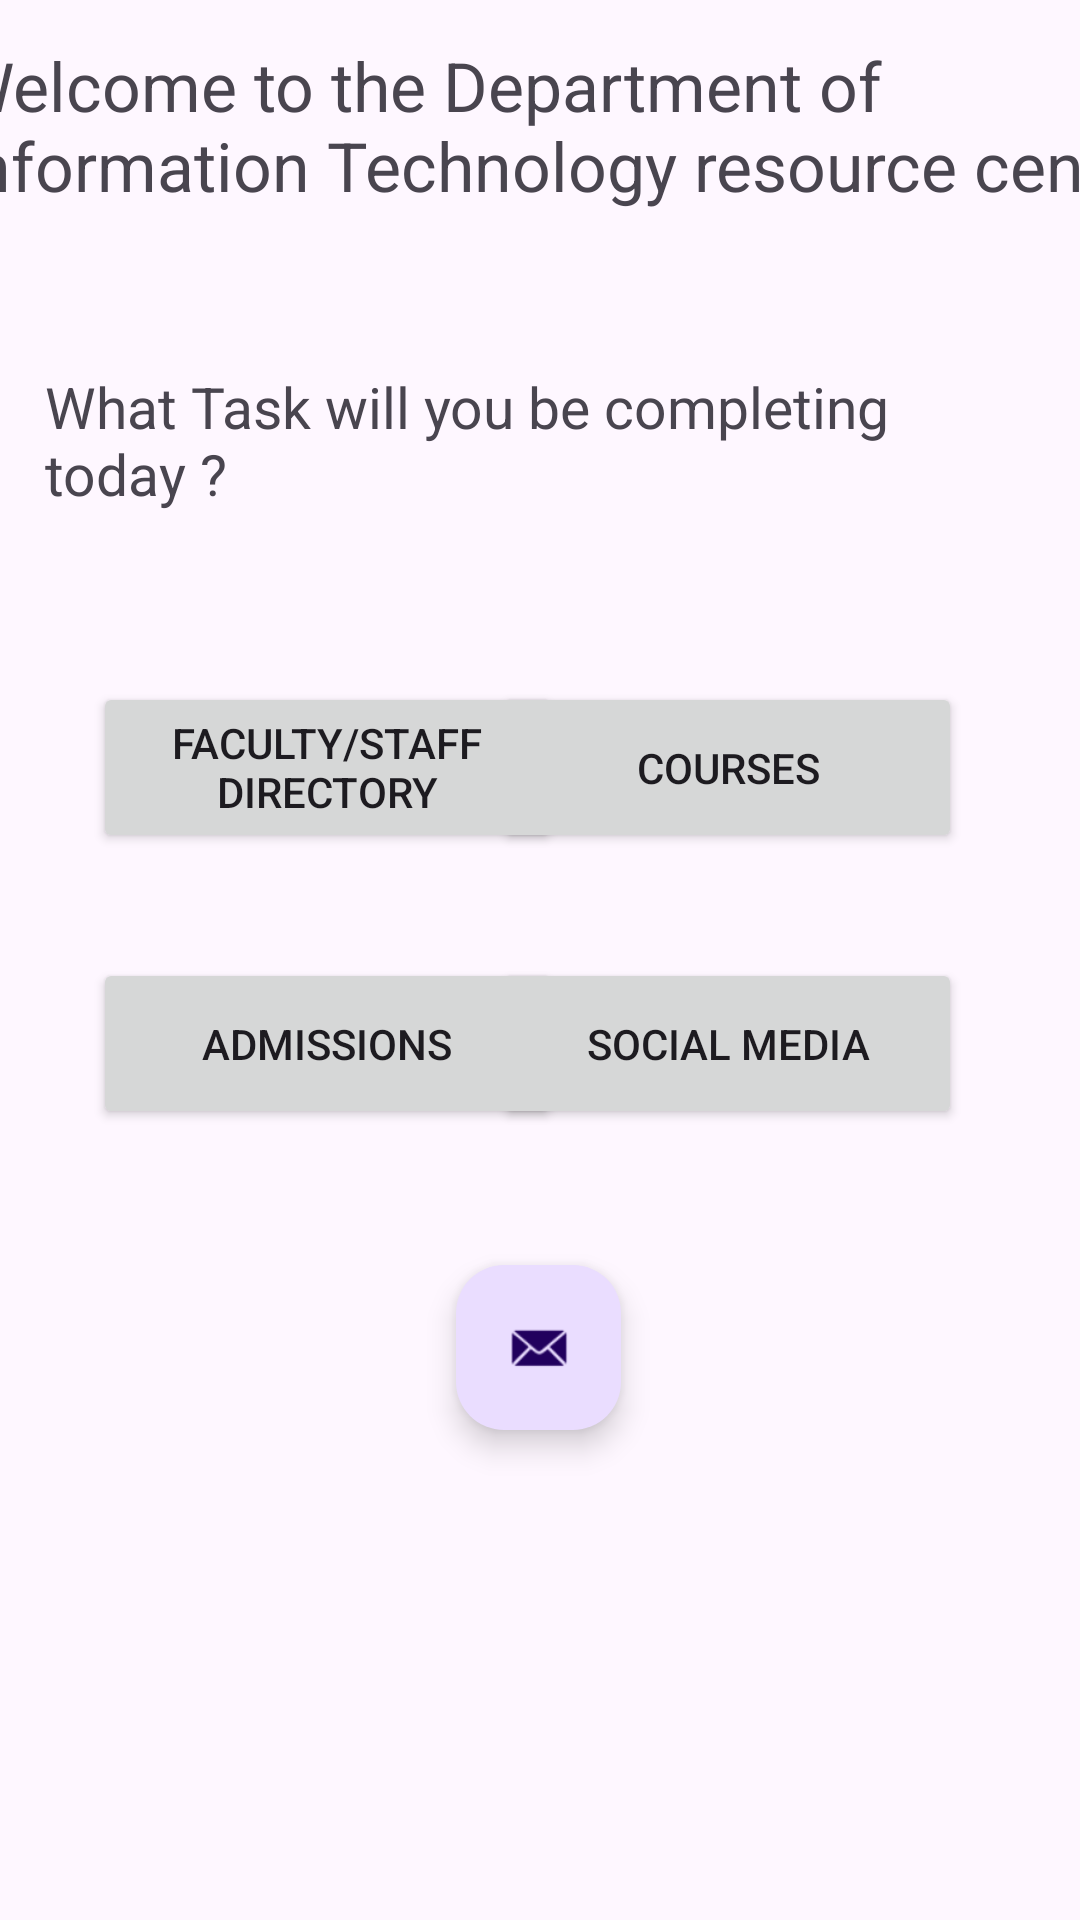

Where icons sit on this 1080x1920 app screen, as (x1, y1, x2, y2):
sym action email: (456, 1265, 621, 1430)
